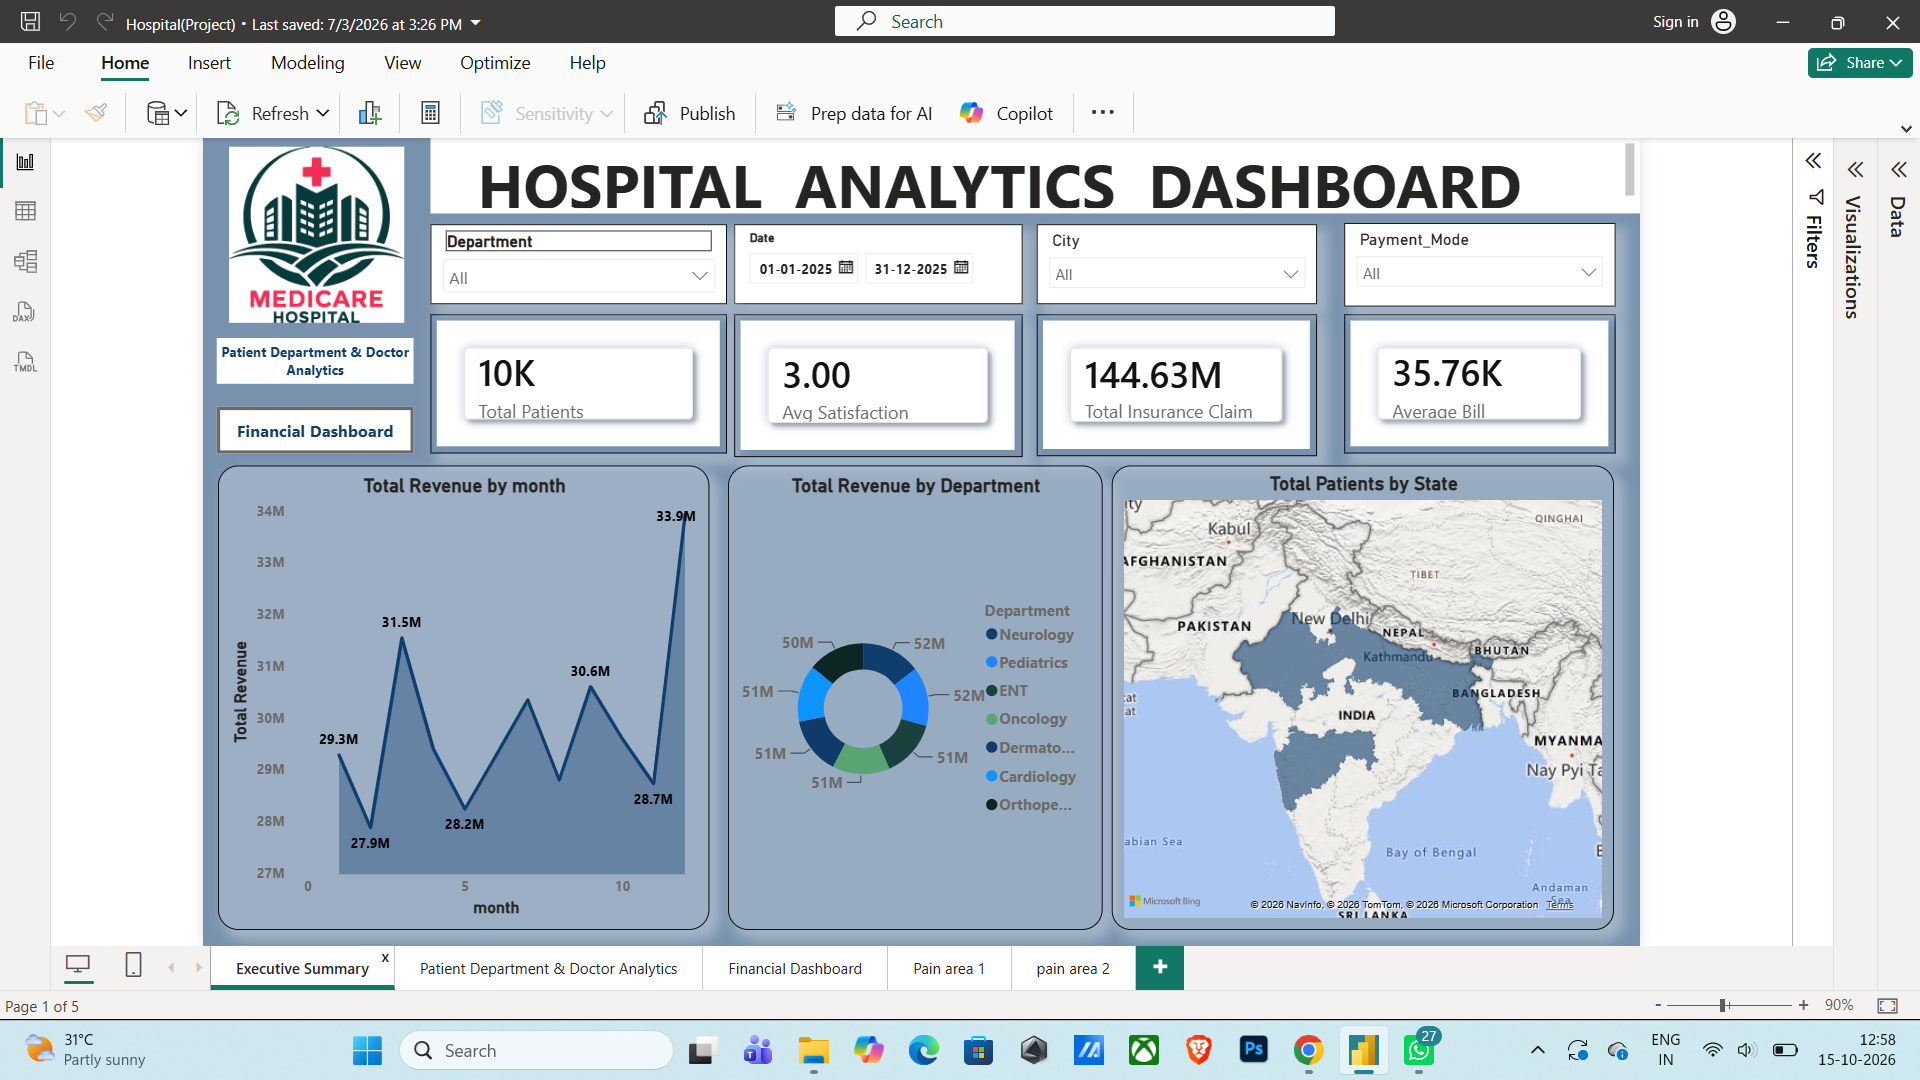

What the dashboard file says about the page in this screenshot:
{"tool":"powerbi","page":{"name":"Executive Summary","canvas":[1280,720],"ordinal":0},"visuals":[{"type":"cardVisual","fields":{"Data":["Hospital_Data.Total Patients"]},"box":[202.7,156.8,264.2,124.3],"z":0},{"type":"cardVisual","fields":{"Data":["Hospital_Data.Average Bill"]},"box":[1015.8,156.8,241.3,124.3],"z":1000},{"type":"cardVisual","fields":{"Data":["Hospital_Data.Avg Satisfaction"]},"box":[473.2,156.5,256.8,127.2],"z":2000},{"type":"cardVisual","fields":{"Data":["Hospital_Data.Total Insurance Claim"]},"box":[742,156.8,249.7,126.7],"z":3000},{"type":"lineChart","fields":{"Category":["Hospital_Data.month"],"Y":["Hospital_Data.Total Revenue"]},"box":[13.3,292,437.9,413.8],"z":4000},{"type":"donutChart","fields":{"Category":["Hospital_Data.Department"],"Y":["Hospital_Data.Total Revenue"]},"box":[467.4,291.9,333.7,414],"z":5000},{"type":"slicer","fields":{"Values":["Hospital_Data.Date"]},"box":[472.9,77.2,257,71.2],"z":6000},{"type":"slicer","fields":{"Values":["Hospital_Data.Department"]},"box":[202.7,77.2,264.2,71.2],"z":7000},{"type":"slicer","fields":{"Values":["Hospital_Data.City"]},"box":[742,77.2,249.7,71.2],"z":8000},{"type":"slicer","fields":{"Values":["Hospital_Data.Payment_Mode"]},"box":[1015.8,76,241.3,74.8],"z":9000},{"type":"filledMap","fields":{"Category":["Hospital_Data.State"]},"box":[809.5,292,447.6,413.8],"z":10000},{"type":"image","box":[0,8.1,202.3,157],"z":11000},{"type":"actionButton","box":[12.8,177.9,175.6,40.7],"z":12000},{"type":"actionButton","box":[12.8,239.5,175.6,41.9],"z":13000},{"type":"textbox","box":[202.7,0,1077.4,67.6],"z":14000}]}

Visuals, with their boxes on the page's 1280x720 design canvas (x1, y1, x2, y2). These are canvas units, not pixel positions in the 1920x1080 screenshot, which may show the page scaled, cropped or inside an application window:
cardVisual - Hospital_Data.Total Patients: 203:157:467:281
cardVisual - Hospital_Data.Average Bill: 1016:157:1257:281
cardVisual - Hospital_Data.Avg Satisfaction: 473:156:730:284
cardVisual - Hospital_Data.Total Insurance Claim: 742:157:992:284
lineChart - Hospital_Data.month x Hospital_Data.Total Revenue: 13:292:451:706
donutChart - Hospital_Data.Department x Hospital_Data.Total Revenue: 467:292:801:706
slicer - Hospital_Data.Date: 473:77:730:148
slicer - Hospital_Data.Department: 203:77:467:148
slicer - Hospital_Data.City: 742:77:992:148
slicer - Hospital_Data.Payment_Mode: 1016:76:1257:151
filledMap - Hospital_Data.State: 810:292:1257:706
image: 0:8:202:165
actionButton: 13:178:188:219
actionButton: 13:240:188:281
textbox: 203:0:1280:68
